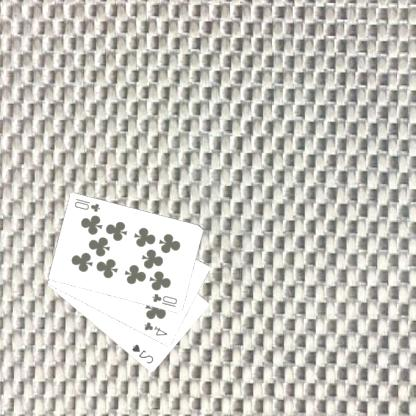10C: (151, 291, 181, 309), (73, 196, 103, 213)
2S: (130, 342, 156, 366)
4C: (143, 319, 171, 337)
